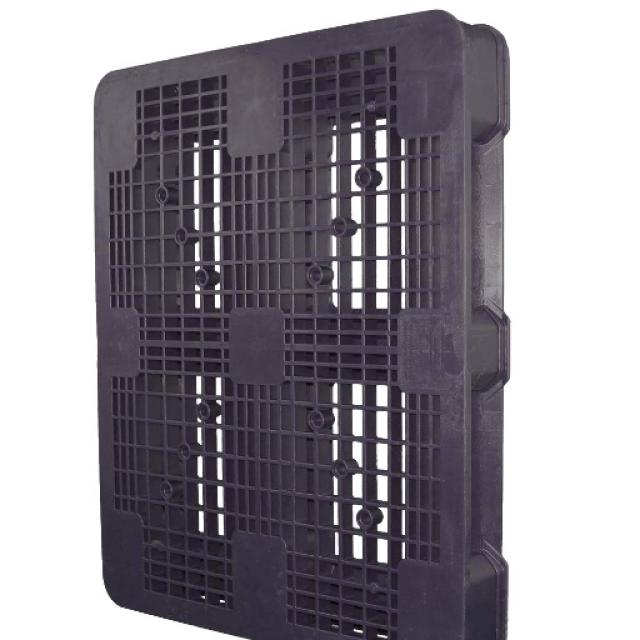non-igps: (85, 3, 519, 640)
